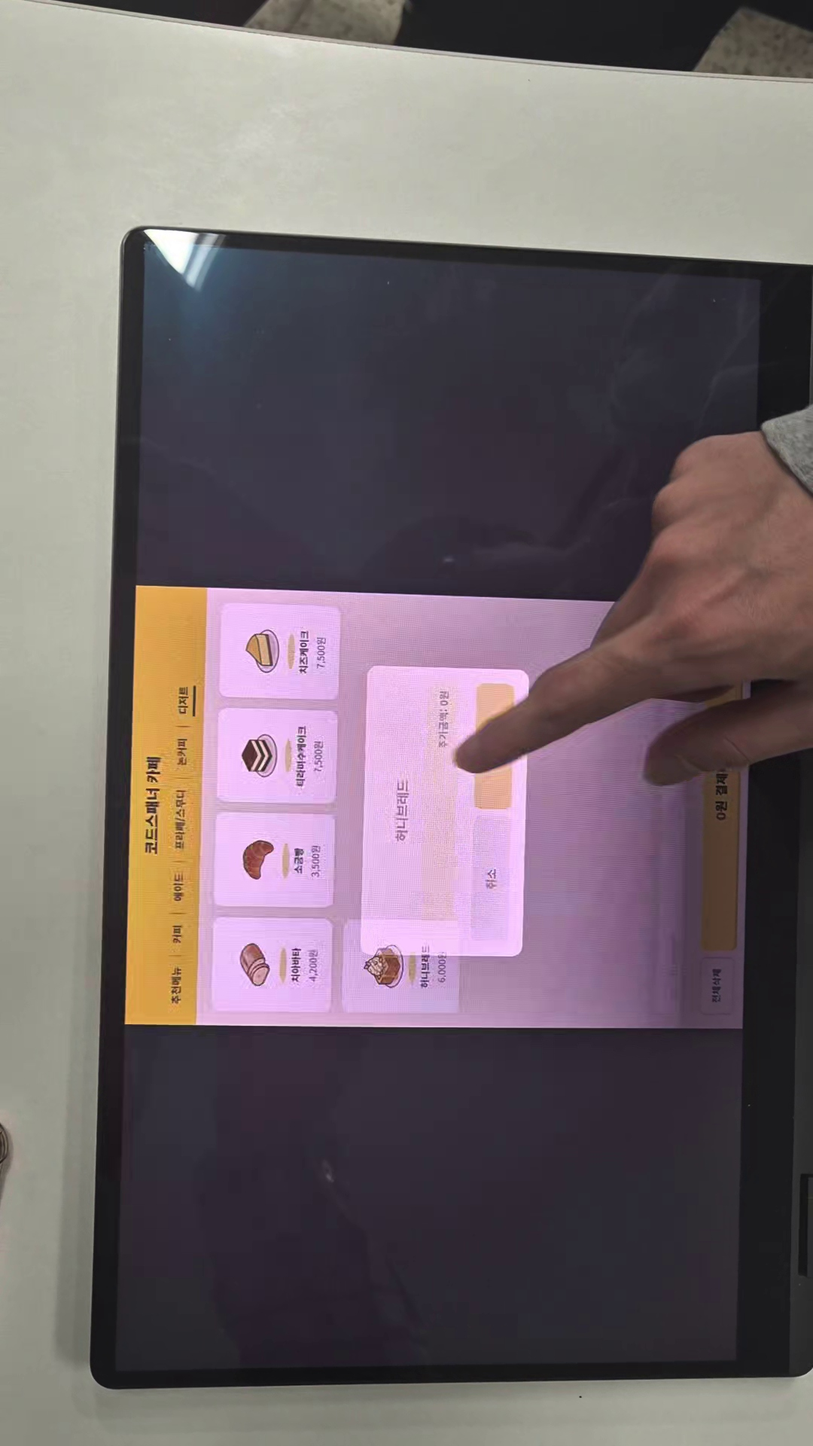action_button: (471, 681, 513, 808), (472, 818, 513, 945)
popup_modal: (368, 665, 527, 956)
